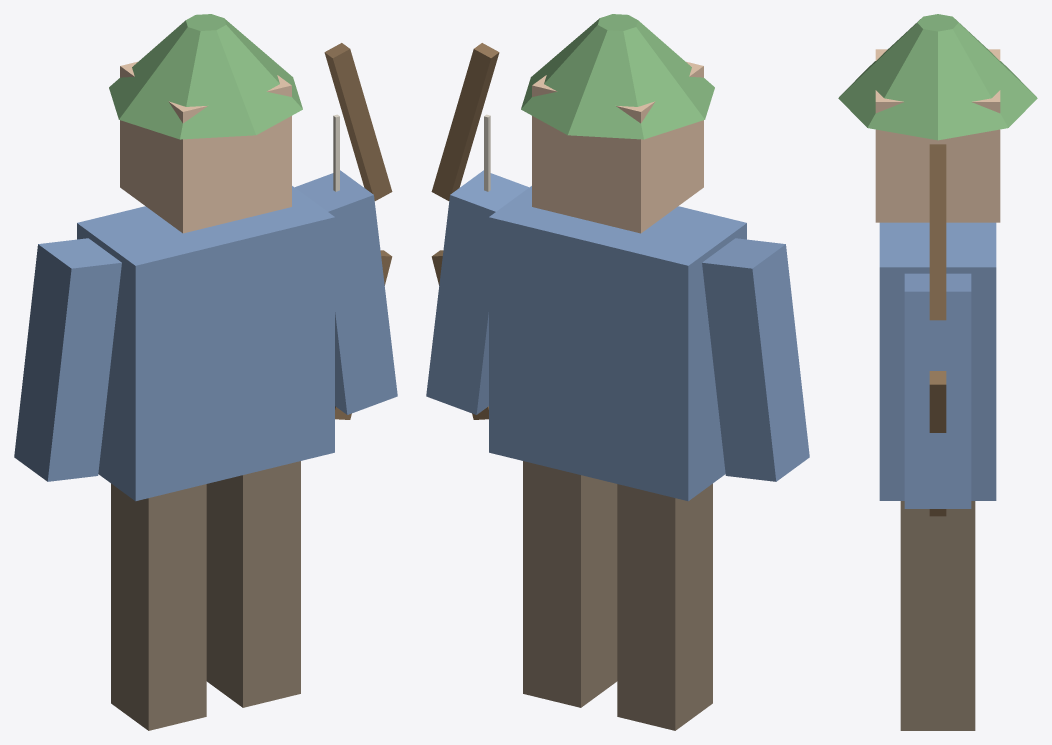
Rendered from Archer.fbx.
3 renders of one model, left to right at view 1: azimuth 30°, elevation 25°; view 2: azimuth 150°, elevation 25°; view 3: azimuth 270°, elevation 25°, orthographic.
Visible parts, largest first — view 1: Torso.003, LegL.003, LegR.003, ArmL.003, Hat, Head.003, ArmR.003, BowU; view 2: Torso.003, LegL.003, LegR.003, ArmL.003, Hat, Head.003, ArmR.003, BowU; view 3: Torso.003, LegR.003, Hat, ArmR.003, Head.003, BowU, BowD.
Part boxes in pixels (<box>): Torso.003: <box>77,186,334,501</box>; LegL.003: <box>111,483,206,730</box>; LegR.003: <box>206,461,300,707</box>; ArmL.003: <box>14,238,121,481</box>; Hat: <box>109,14,302,139</box>; Head.003: <box>120,61,291,233</box>; ArmR.003: <box>295,170,397,414</box>; BowU: <box>324,43,392,200</box>; Torso.003: <box>489,186,746,501</box>; LegL.003: <box>617,483,712,730</box>; LegR.003: <box>523,461,617,707</box>; ArmL.003: <box>702,238,809,481</box>; Hat: <box>521,14,714,139</box>; Head.003: <box>532,61,703,233</box>; ArmR.003: <box>426,170,528,414</box>; BowU: <box>431,43,499,200</box>; Torso.003: <box>879,222,996,500</box>; LegR.003: <box>900,501,975,730</box>; Hat: <box>838,14,1037,140</box>; ArmR.003: <box>904,273,971,508</box>; Head.003: <box>875,49,1000,222</box>; BowU: <box>929,144,946,320</box>; BowD: <box>929,371,946,516</box>.
Size of the model in its own units: 98.45 by 178 by 48.
